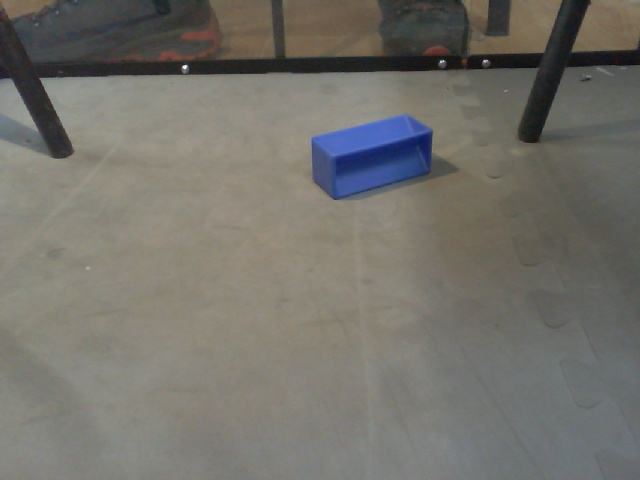BlueSample: (306, 114, 436, 201)
